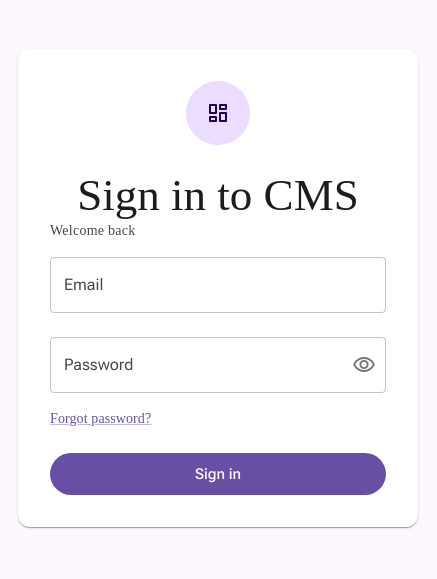
Test: LoginPage › shows an error banner and focuses email when credentials are invalid
Type "editor@example.com" into the field labelled "Email" at (218, 285), box [50,257,386,313]
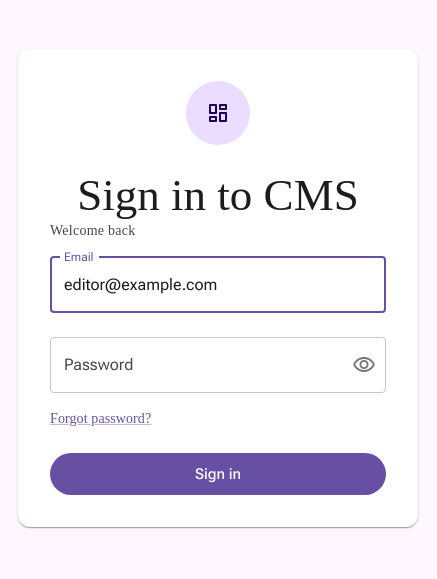
Type "wrong-password" into the password field labelled "Password" at (193, 365), box [50,337,336,393]
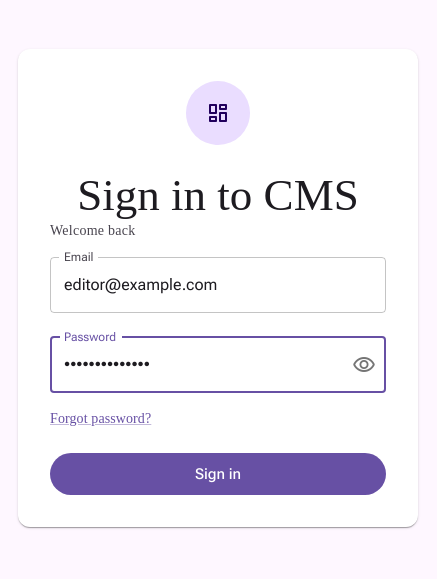
Click the button "Sign in" at (218, 474), box [50,453,386,495]
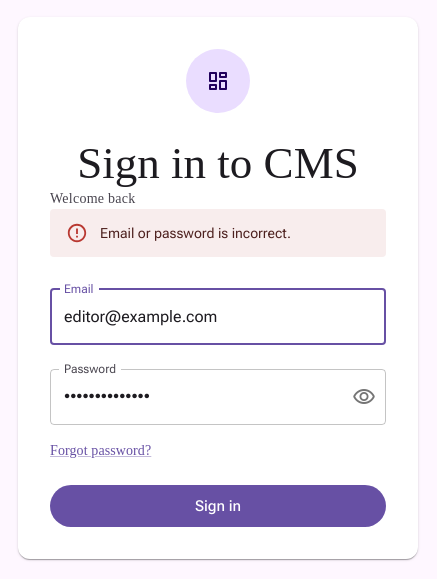
Expected: the text "Email or password is incorrect." is shown, [100,225,291,241]
